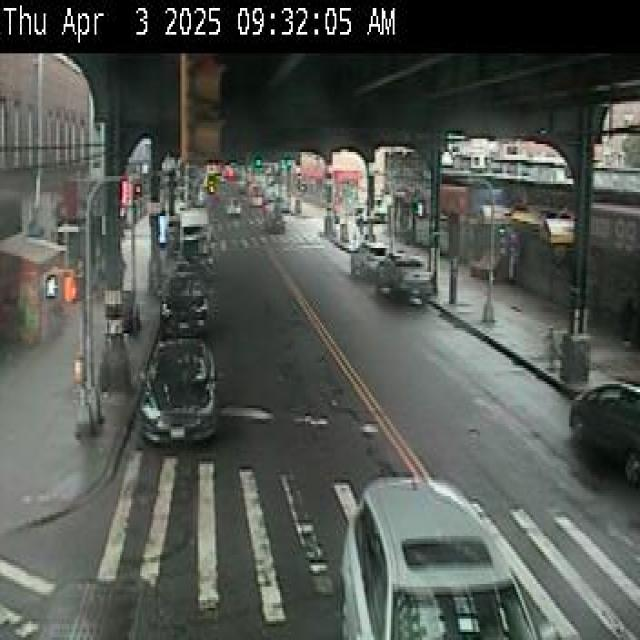open parking: (416, 279, 607, 420)
parkedCars: (554, 367, 640, 505), (352, 238, 464, 312)
